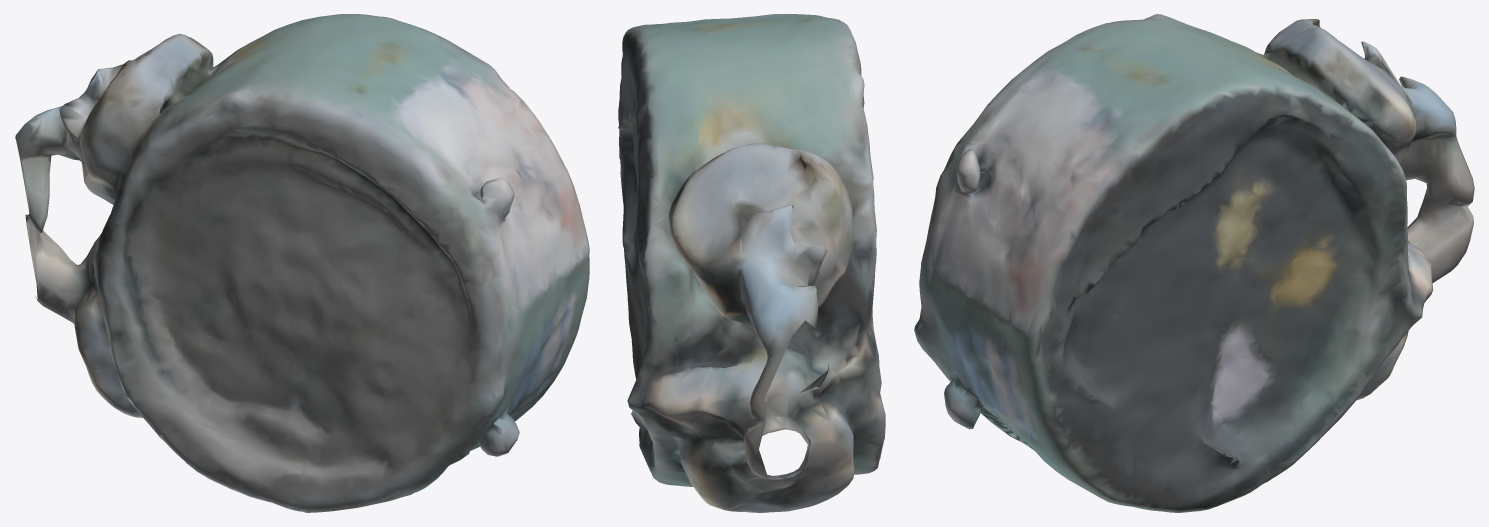
3 renders of one model, left to right at view 1: azimuth 30°, elevation 25°; view 2: azimuth 150°, elevation 25°; view 3: azimuth 270°, elevation 25°, orthographic.
Visible parts, largest first — view 1: geometry_0; view 2: geometry_0; view 3: geometry_0.
Part boxes in pixels (left/top/right/bottom): geometry_0: left=15, top=14, right=589, bottom=512; geometry_0: left=618, top=14, right=885, bottom=512; geometry_0: left=914, top=14, right=1474, bottom=512.
Bounding box in the file's own units: 1.57 × 1.67 × 2.
